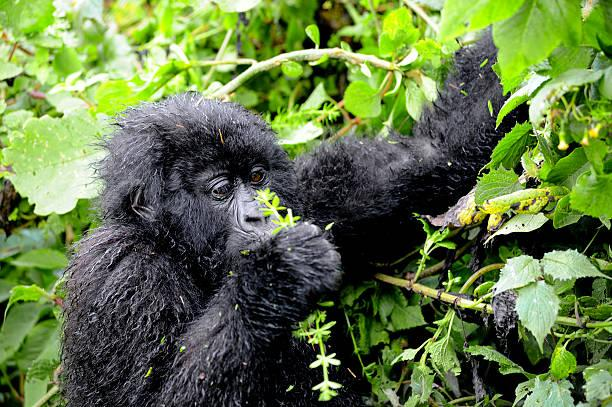goriile_montagne: (57, 94, 392, 407)
